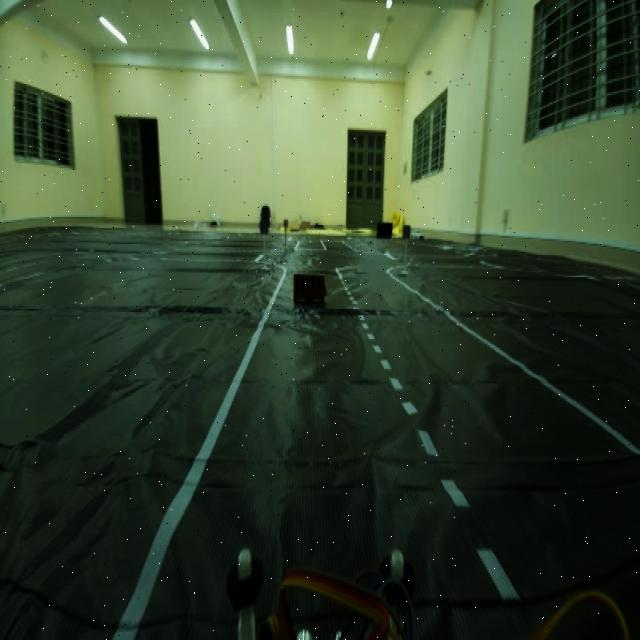roadblock: (290, 264, 330, 326)
